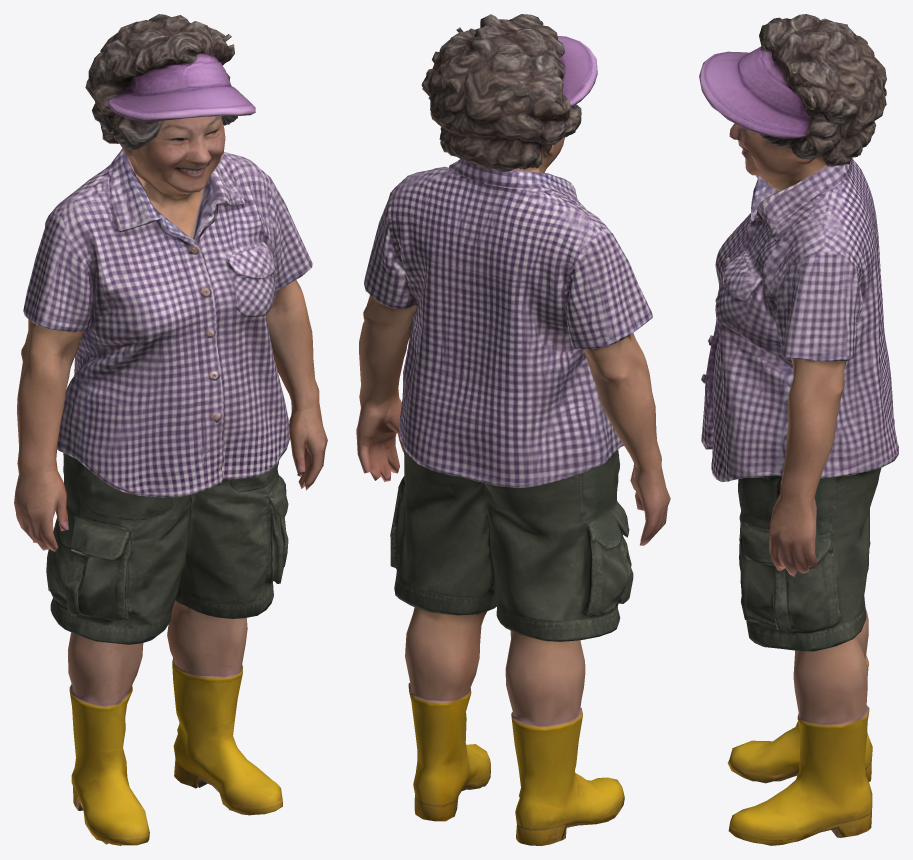
File: westCorner.glb
3 renders of one model, left to right at view 1: azimuth 30°, elevation 25°; view 2: azimuth 150°, elevation 25°; view 3: azimuth 270°, elevation 25°, orthographic.
Visible parts, largest first — view 1: tripo_node_3647bbf0-346d-40fc-a8d8-24f2bdab43af, westCorner articulation; view 2: tripo_node_3647bbf0-346d-40fc-a8d8-24f2bdab43af; view 3: tripo_node_3647bbf0-346d-40fc-a8d8-24f2bdab43af, westCorner articulation.
Boxes of the visible parts, x1,y1,x2,y2 form: tripo_node_3647bbf0-346d-40fc-a8d8-24f2bdab43af: [14, 14, 327, 845]; westCorner articulation: [132, 111, 255, 224]; tripo_node_3647bbf0-346d-40fc-a8d8-24f2bdab43af: [356, 14, 670, 845]; tripo_node_3647bbf0-346d-40fc-a8d8-24f2bdab43af: [699, 14, 898, 845]; westCorner articulation: [707, 100, 798, 220].
Bounding box in the file's own units: 0.3973 × 0.9802 × 0.227.
2 materials, 1 textured.
